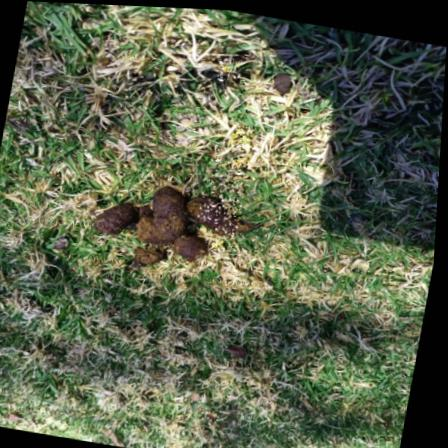dog-poop: (93, 166, 246, 281)
